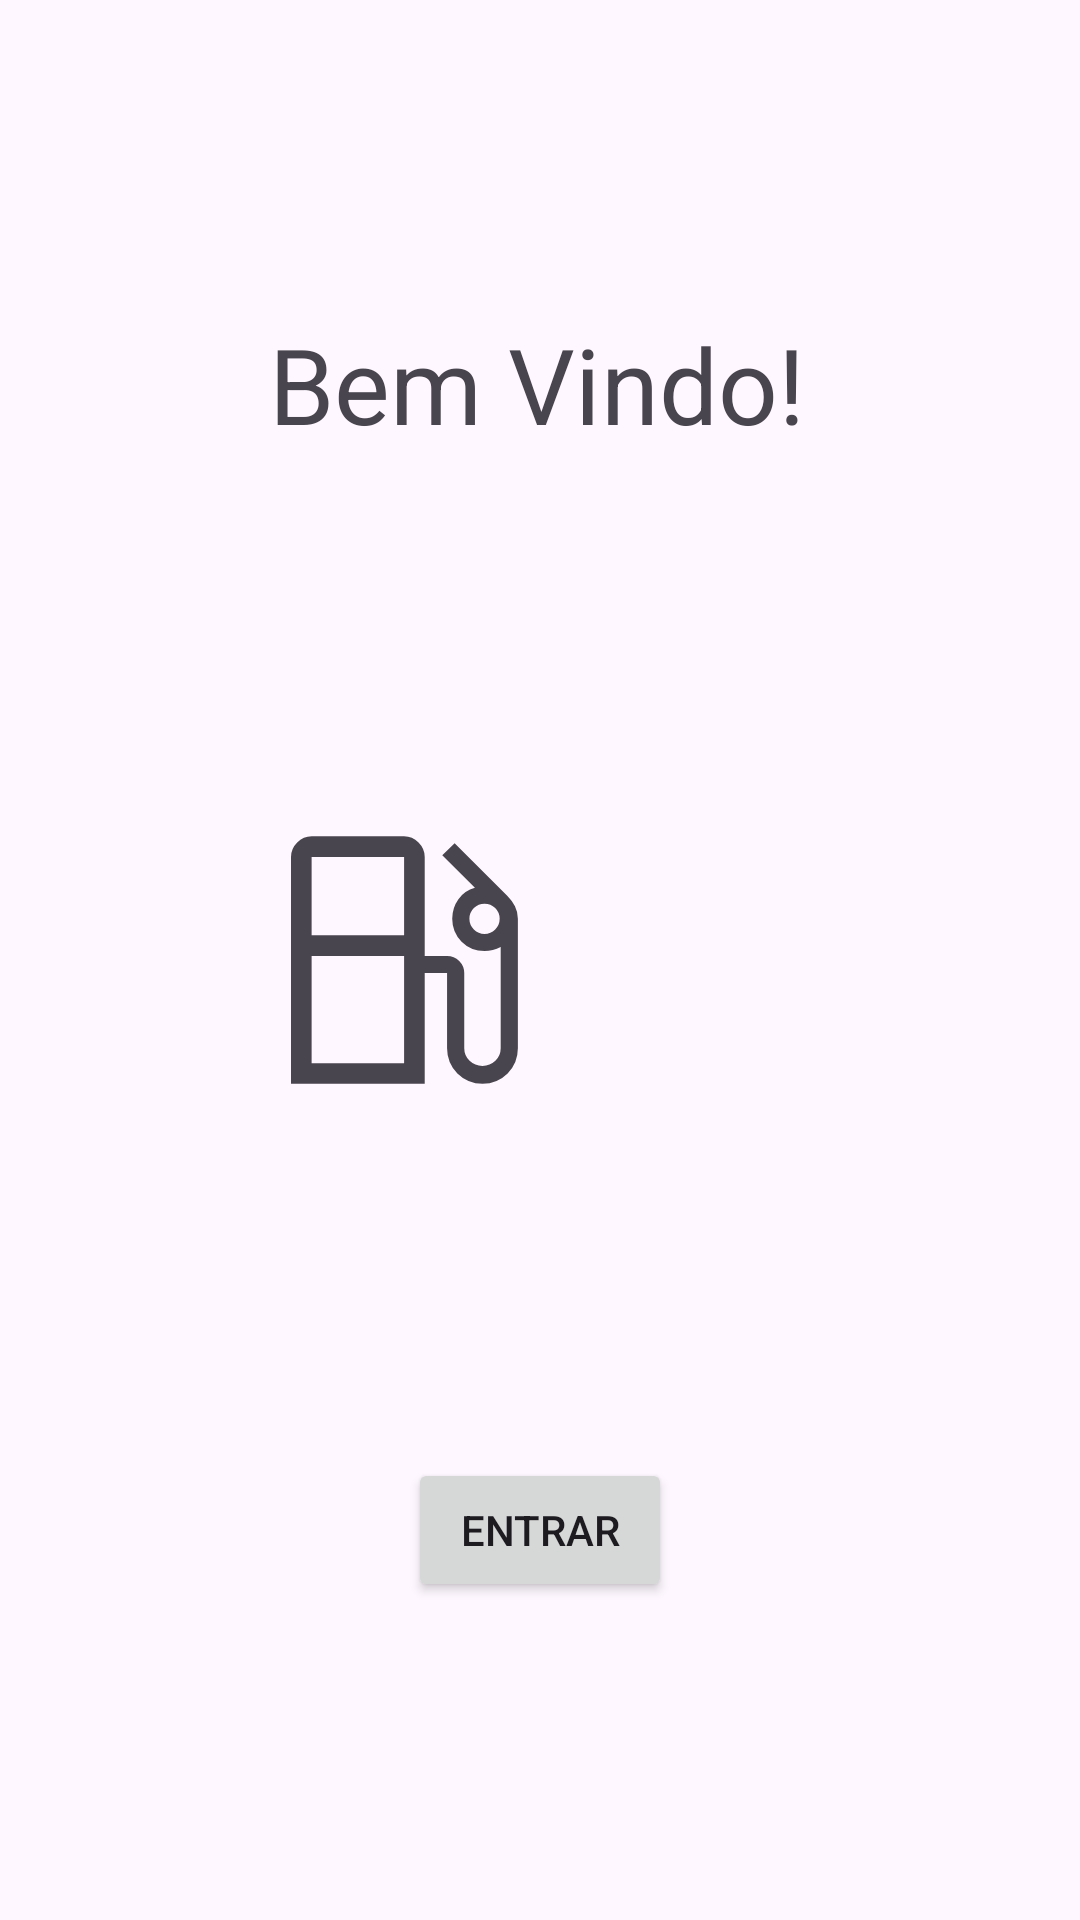

Icon click points for this 1080px×1920px phone screenshot, format (x=x, y=y):
local gas station: (x=404, y=960)
